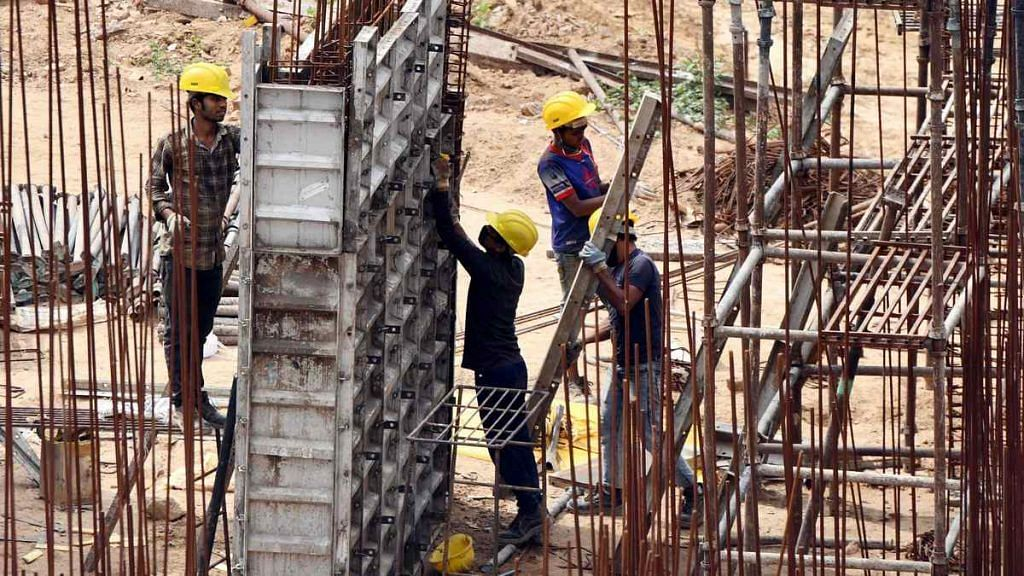cap: (167, 53, 241, 113), (484, 202, 547, 263), (535, 87, 610, 134), (577, 208, 647, 235)
